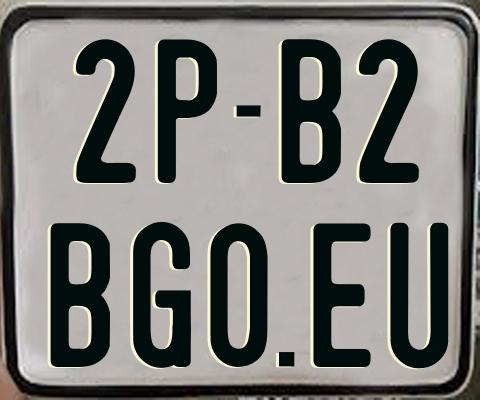0: (207, 223, 266, 373)
2: (357, 36, 422, 183), (74, 39, 136, 188)
B: (50, 221, 114, 365), (279, 37, 342, 182)
E: (313, 220, 374, 364)
G: (130, 220, 190, 369)
P: (158, 38, 223, 184)
U: (389, 221, 454, 371)
